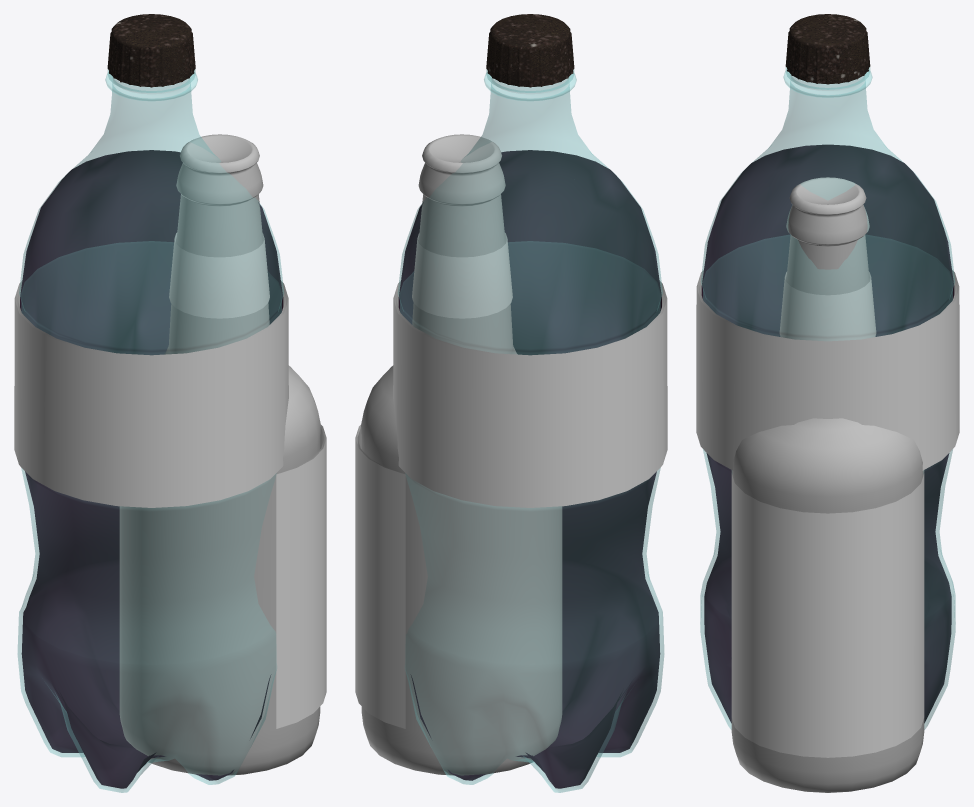
Rendered from bottles.fbx.
3 renders of one model, left to right at view 1: azimuth 30°, elevation 25°; view 2: azimuth 150°, elevation 25°; view 3: azimuth 270°, elevation 25°, orthographic. The views are drawn at different scales.
Visible parts, largest first — view 1: spriteBottle_2L, beerBottle_label; view 2: spriteBottle_2L, beerBottle_label; view 3: spriteBottle_2L, beerBottle_label.
Part boxes in pixels (x1=…): spriteBottle_2L: x1=14, y1=14, x2=288, y2=792; beerBottle_label: x1=119, y1=134, x2=326, y2=775; spriteBottle_2L: x1=393, y1=14, x2=667, y2=792; beerBottle_label: x1=355, y1=134, x2=562, y2=775; spriteBottle_2L: x1=696, y1=14, x2=959, y2=729; beerBottle_label: x1=731, y1=177, x2=924, y2=792.
Bounding box in the file's own units: 0.2043 × 0.1733 × 0.5068.
